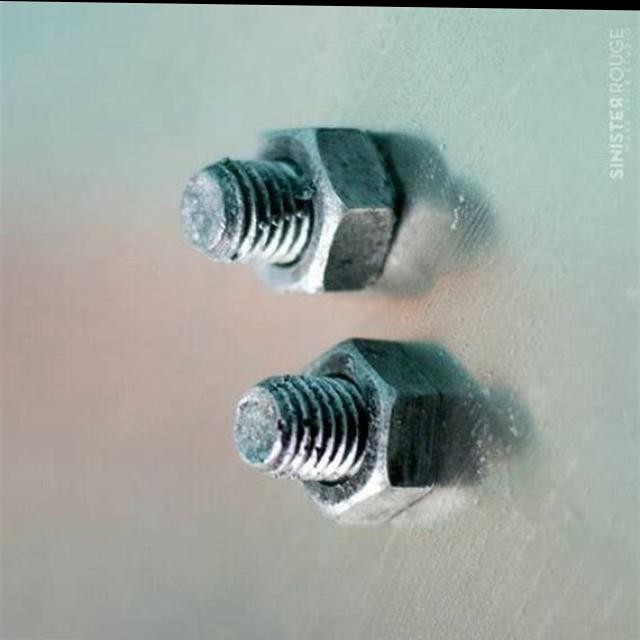Regular bolt: (278, 335, 437, 523), (240, 124, 397, 297)
